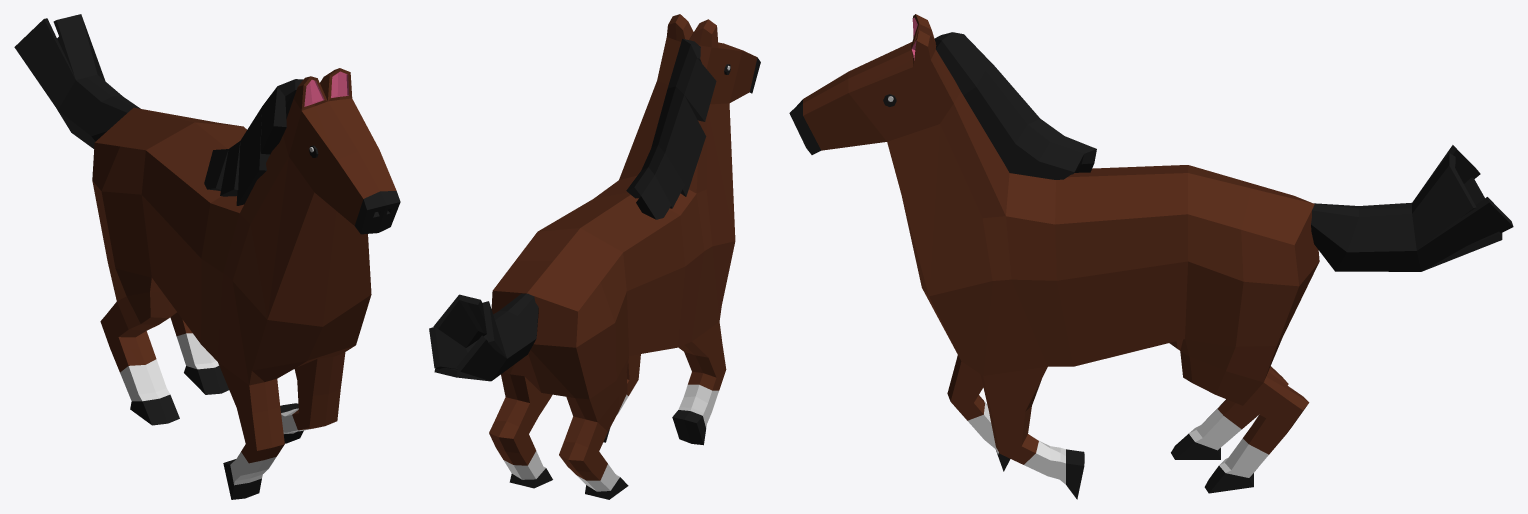
The model's file is Horse_01.fbx.
3 renders of one model, left to right at view 1: azimuth 30°, elevation 25°; view 2: azimuth 150°, elevation 25°; view 3: azimuth 270°, elevation 25°, orthographic. The views are drawn at different scales.
Visible parts, largest first — view 1: Horse_01; view 2: Horse_01; view 3: Horse_01.
Boxes of the visible parts, bbox=[...] form: Horse_01: bbox=[14, 14, 400, 499]; Horse_01: bbox=[429, 14, 760, 499]; Horse_01: bbox=[789, 14, 1513, 499].
Bounding box in the file's own units: 4.62 × 14.87 × 21.
